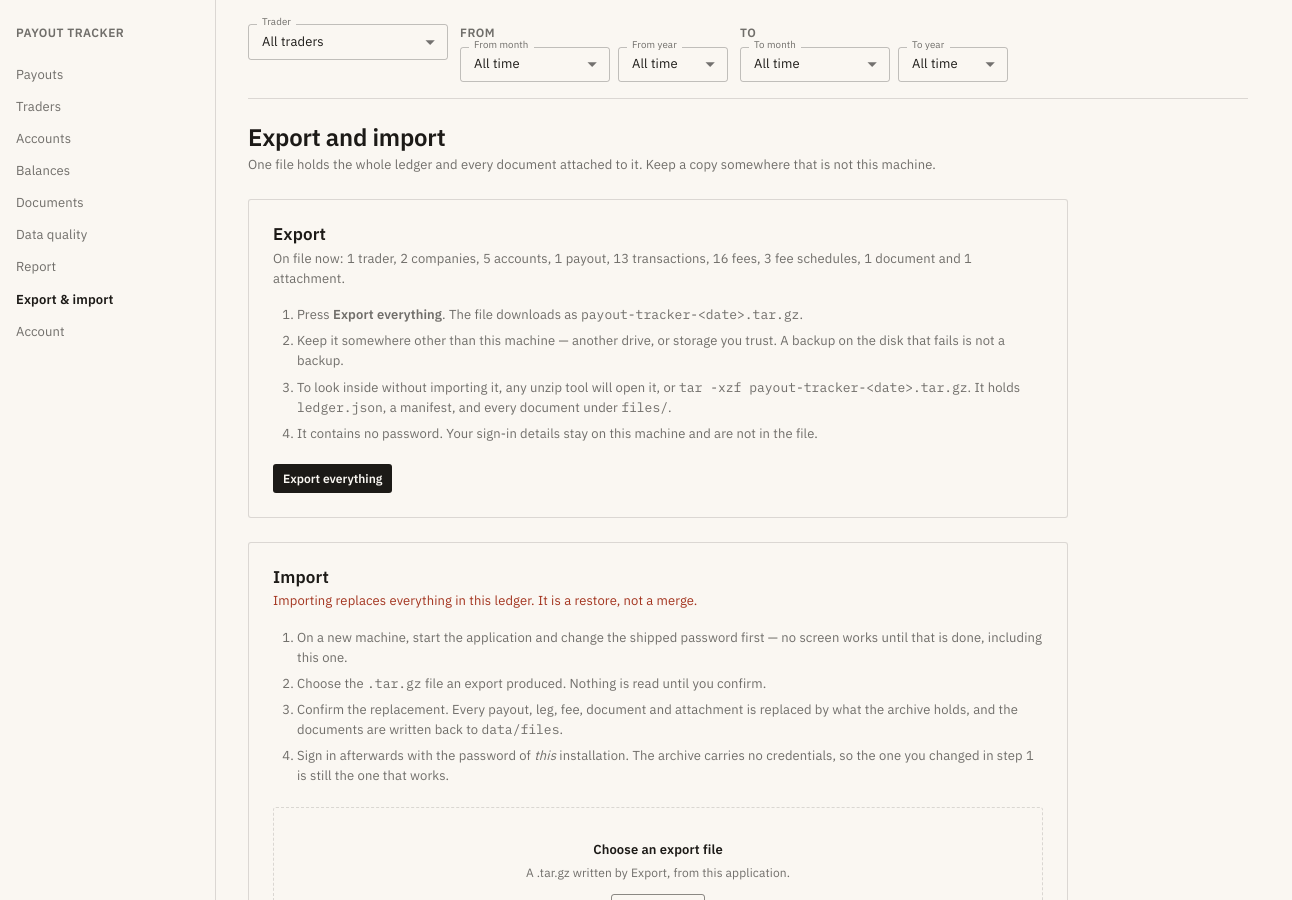
exporting › says what it exported, in the same words
Click the button "Export everything" at (333, 478), box [273,464,392,493]
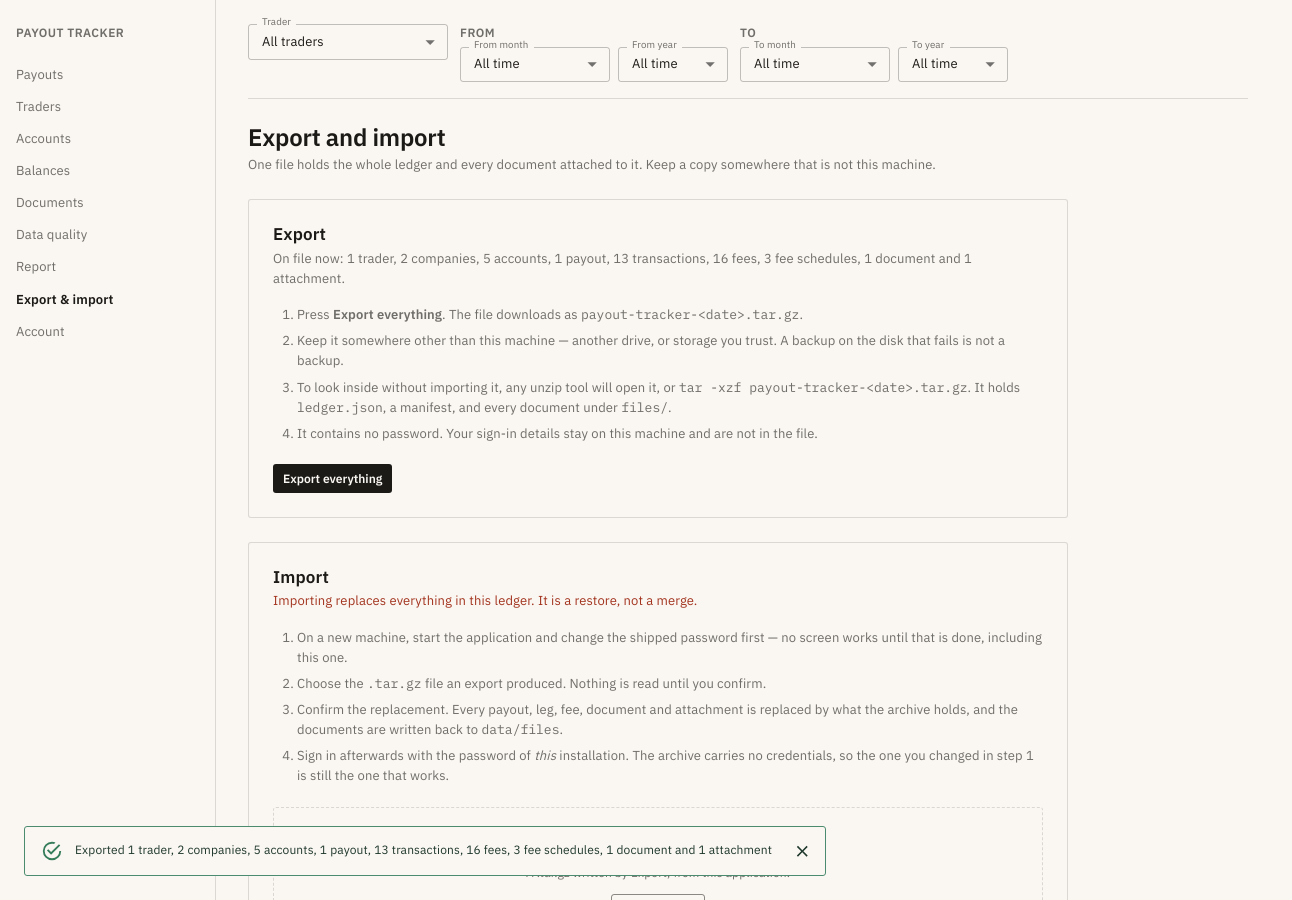
Check: the text "Exported 1 trader" is shown, box [75,842,772,857]
